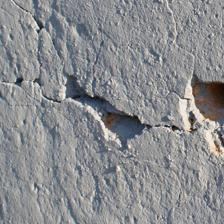Crack: (17, 61, 129, 138), (30, 49, 111, 107), (26, 37, 50, 123)
